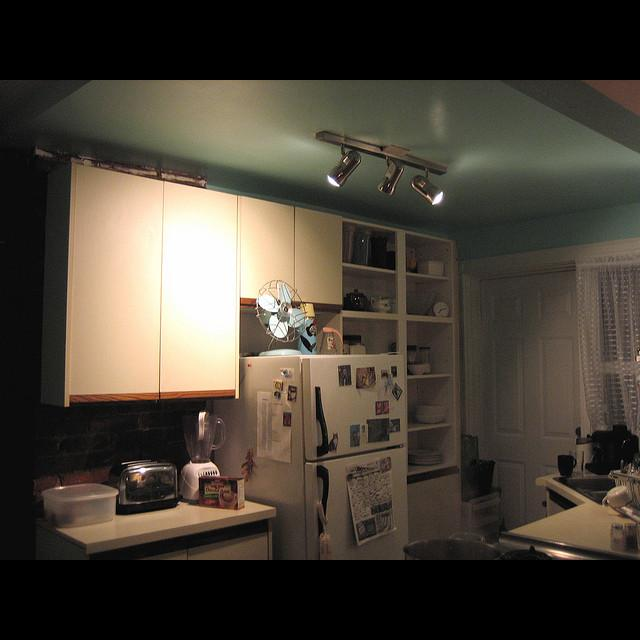Refrigerator: (247, 358, 406, 553)
